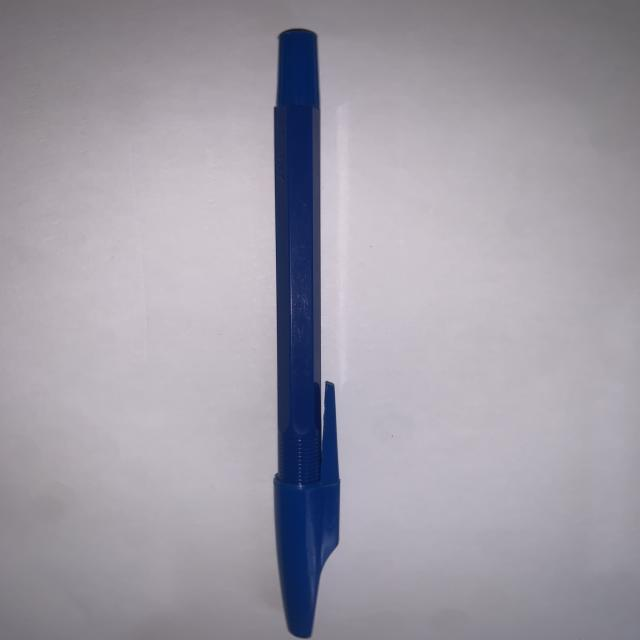Pulpen: (252, 25, 358, 639)
